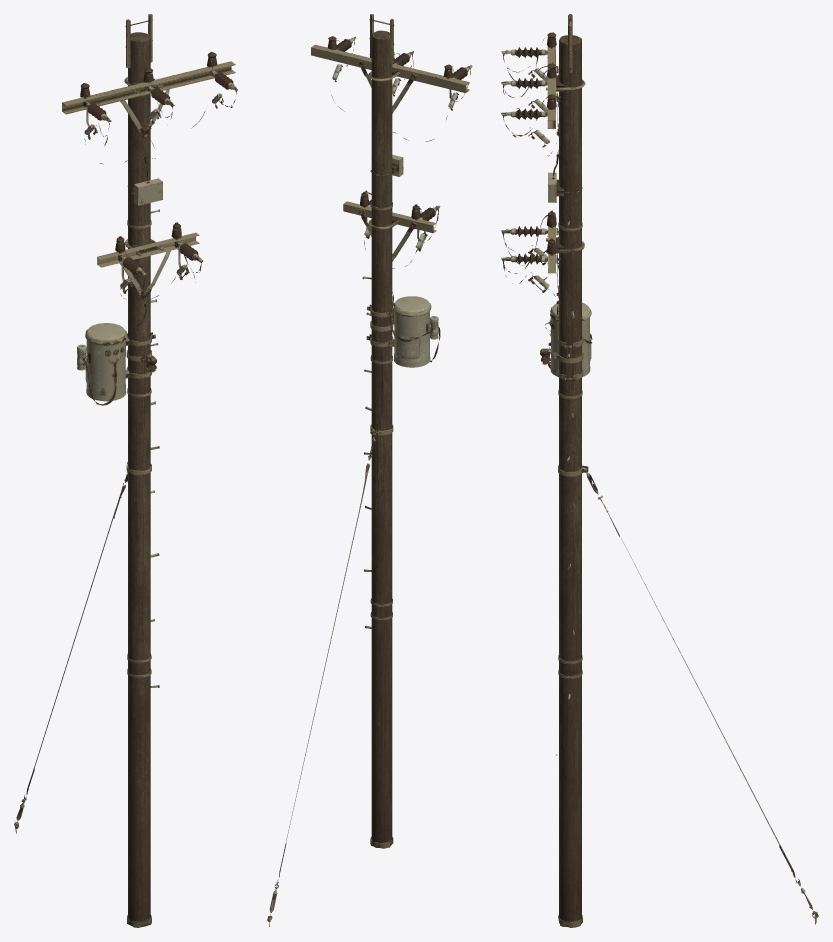
The model's file is electricity_pole_01.glb.
The picture shows the model from 3 angles, left to right: view 1: azimuth 30°, elevation 25°; view 2: azimuth 150°, elevation 25°; view 3: azimuth 270°, elevation 25°; orthographic projection. The views are drawn at different scales.
Visible parts, largest first — view 1: body; view 2: body; view 3: body.
Boxes of the visible parts, <box> form: body: <box>14,14,238,927</box>; body: <box>267,14,472,926</box>; body: <box>501,14,818,927</box>.
Size of the model in its own units: 1.2 by 6.13 by 1.95.
Materials: 1 (1 with a texture image).
